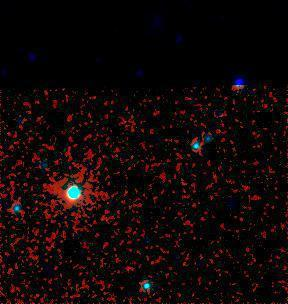star: (29, 151, 59, 181)
